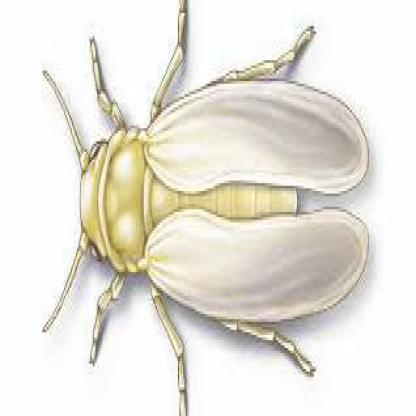whitefly: (42, 0, 369, 413)
